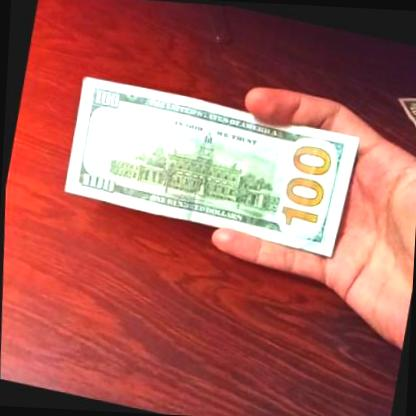dollar_back: (52, 67, 368, 263)
